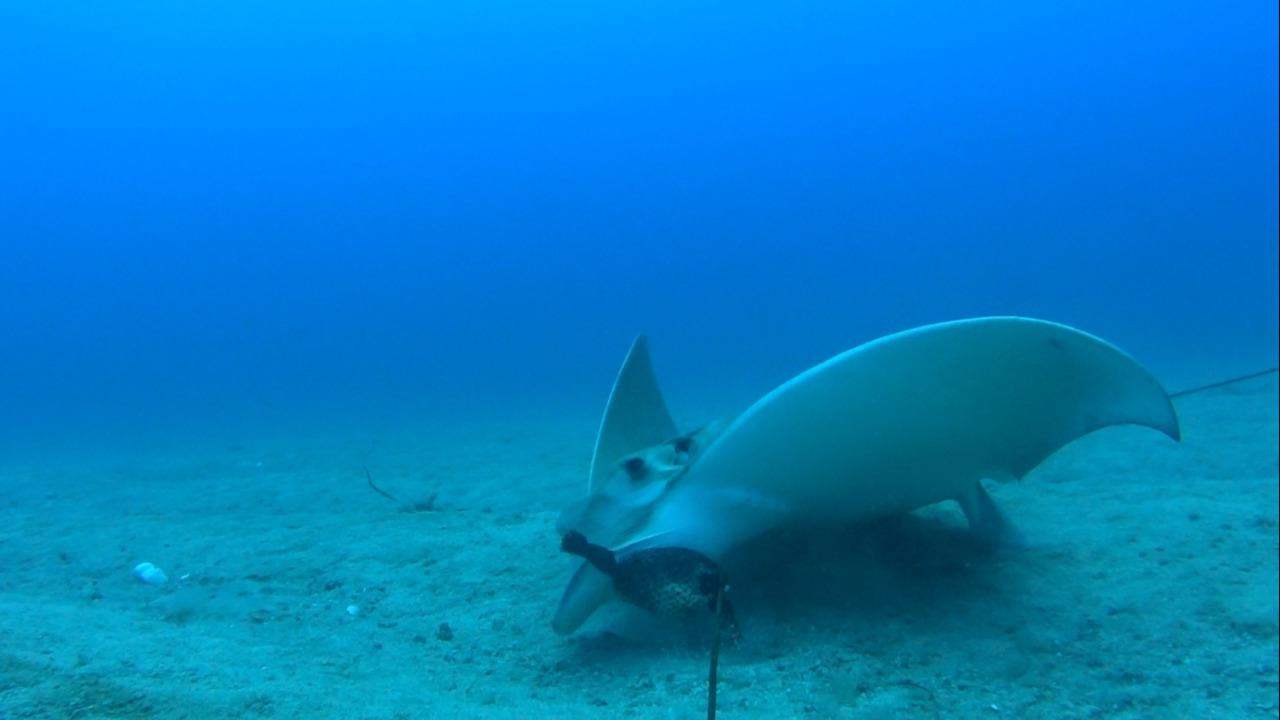myliobatis: (540, 309, 1279, 632)
